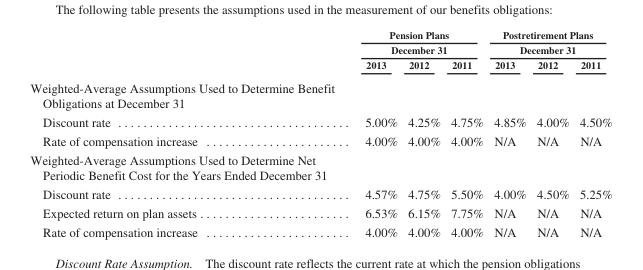table: (29, 28, 611, 239)
table column: (29, 28, 280, 239), (280, 28, 402, 239), (402, 28, 445, 239), (445, 28, 488, 239), (530, 28, 573, 239), (488, 28, 530, 239), (573, 28, 611, 239)
table column header: (29, 28, 611, 75)
table projected row header: (29, 75, 611, 112), (29, 150, 611, 184)
table row: (29, 75, 611, 112), (29, 150, 611, 184), (29, 28, 611, 57), (29, 112, 611, 131), (29, 131, 611, 150), (29, 184, 611, 203), (29, 203, 611, 222), (29, 57, 611, 75), (29, 222, 611, 239)
table spanning cell: (280, 28, 488, 57), (488, 28, 611, 57)
